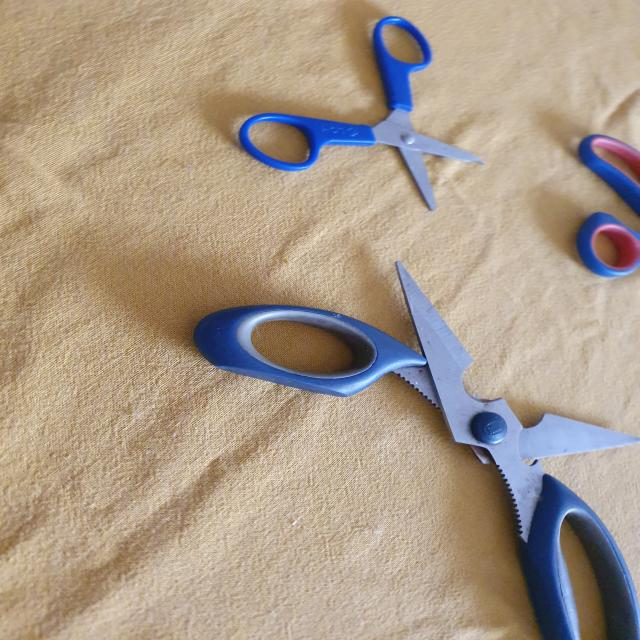scissors: (191, 259, 640, 640), (235, 15, 483, 211), (572, 130, 640, 282)
